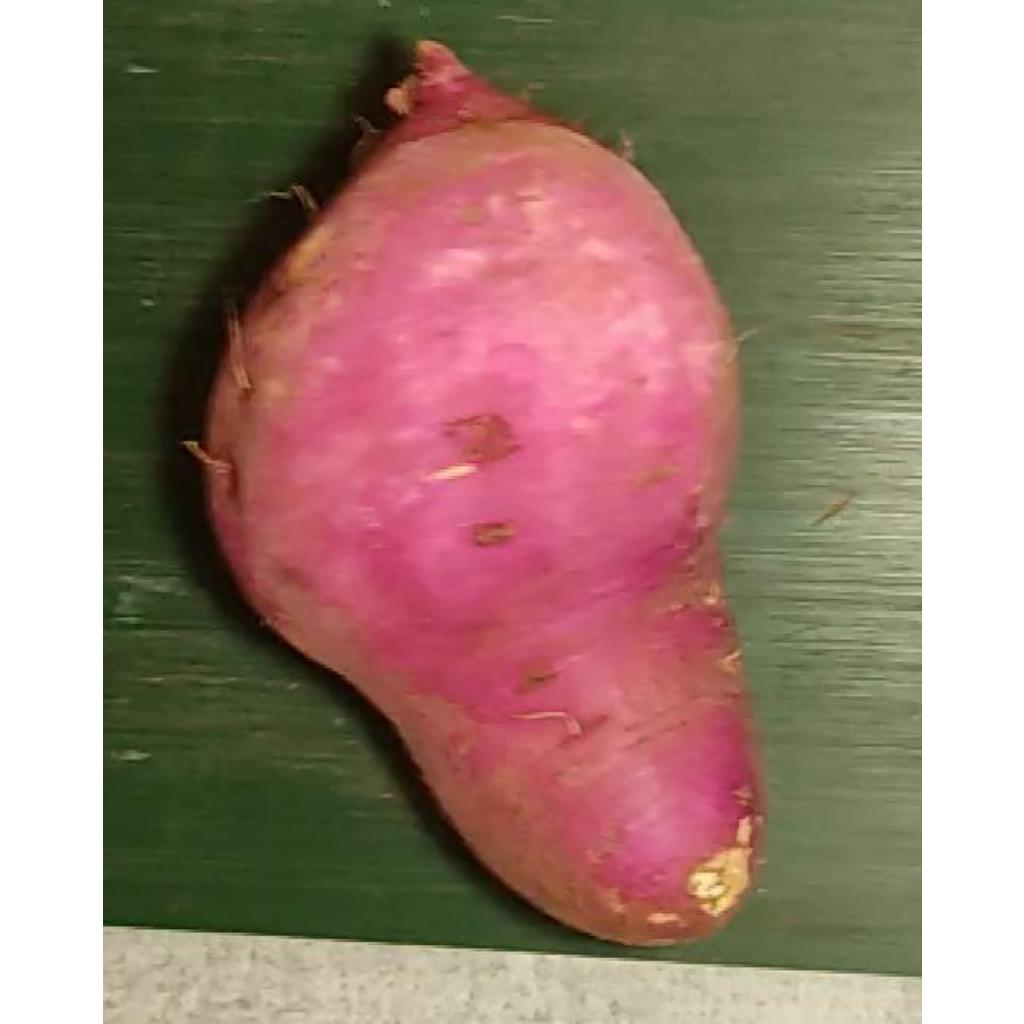Sweet Potato: (182, 41, 768, 953)
